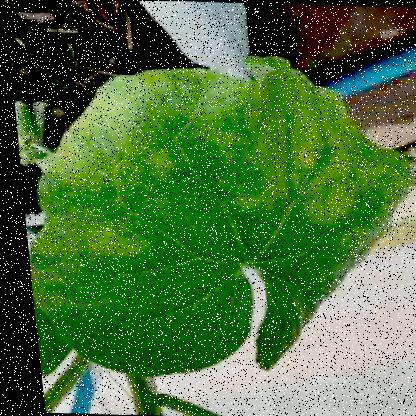CassavaMosaicDisease: (22, 57, 377, 259)
